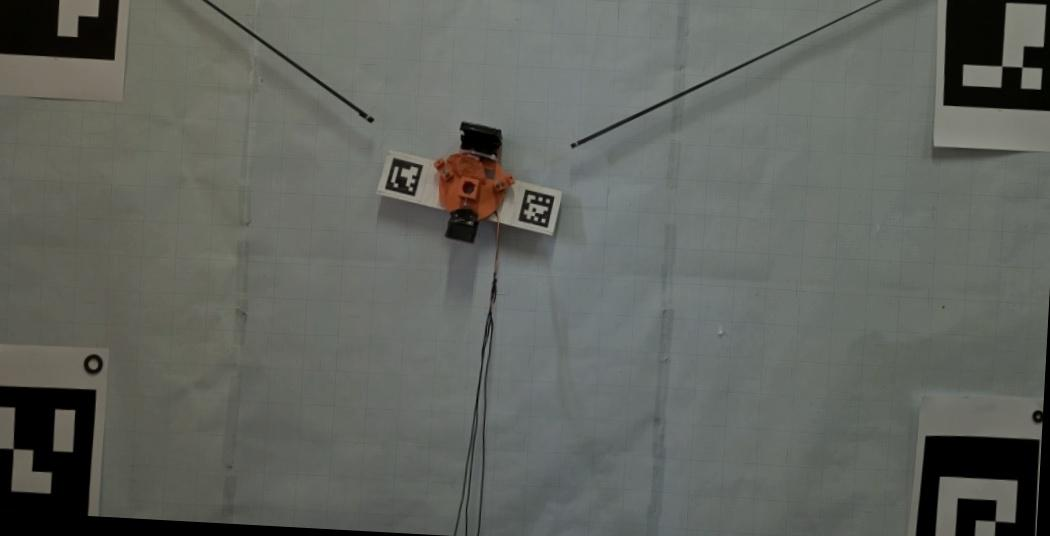robot: (433, 121, 517, 246)
